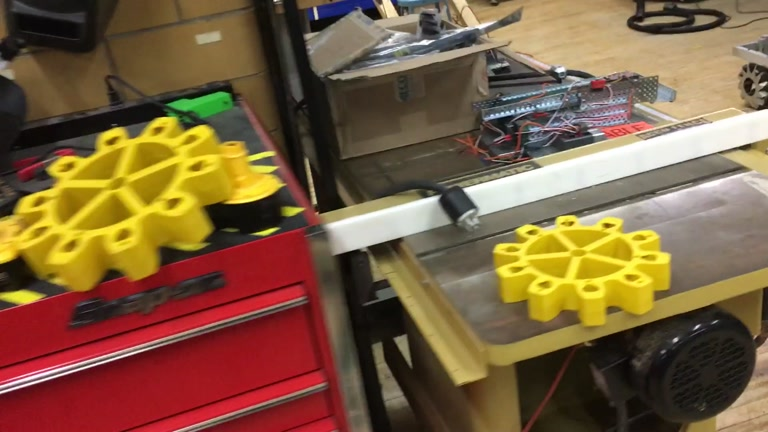gear: (13, 116, 232, 294), (491, 214, 673, 328)
